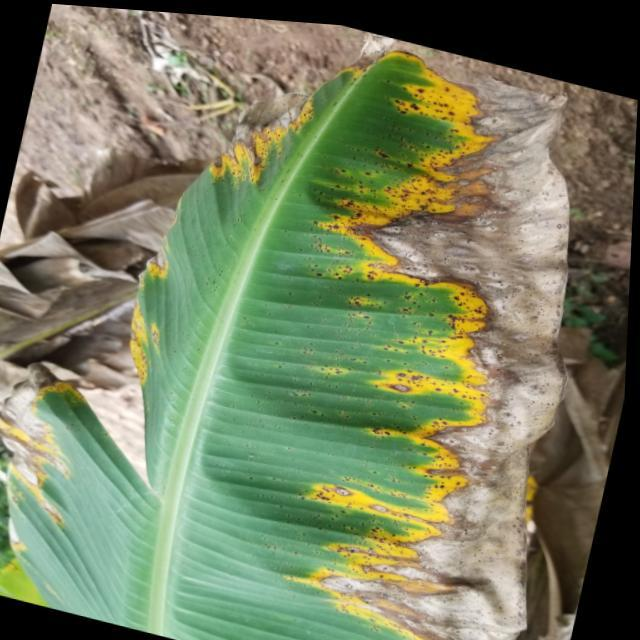Early_rust: (10, 49, 504, 639)
